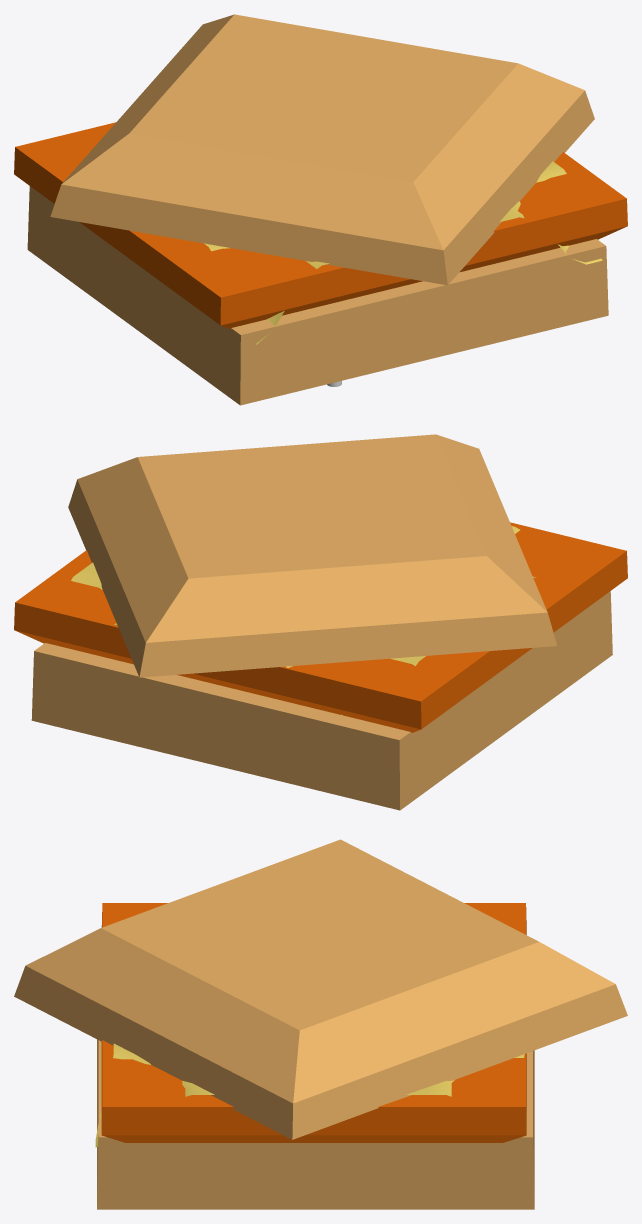
File: Burger.glb
The picture shows the model from 3 angles, top to bottom: view 1: azimuth 30°, elevation 25°; view 2: azimuth 150°, elevation 25°; view 3: azimuth 270°, elevation 25°; orthographic projection. The views are drawn at different scales.
Parts seen in each view (by area): view 1: Cube.001, Cube, Cube.002, Plane; view 2: Cube.001, Cube, Cube.002, Plane; view 3: Cube.001, Cube, Cube.002, Plane.
Part boxes in pixels (x1=…): Cube.001: x1=50, y1=14, x2=594, y2=285; Cube: x1=27, y1=186, x2=608, y2=405; Cube.002: x1=14, y1=122, x2=627, y2=328; Plane: x1=204, y1=161, x2=602, y2=344; Cube.001: x1=68, y1=434, x2=557, y2=677; Cube: x1=31, y1=591, x2=612, y2=810; Cube.002: x1=14, y1=522, x2=627, y2=732; Plane: x1=71, y1=526, x2=536, y2=715; Cube.001: x1=14, y1=839, x2=627, y2=1139; Cube: x1=97, y1=1039, x2=534, y2=1209; Cube.002: x1=101, y1=903, x2=526, y2=1142; Plane: x1=95, y1=1043, x2=524, y2=1147.
Bounding box in the file's own units: 78.55 × 35.97 × 78.55.
